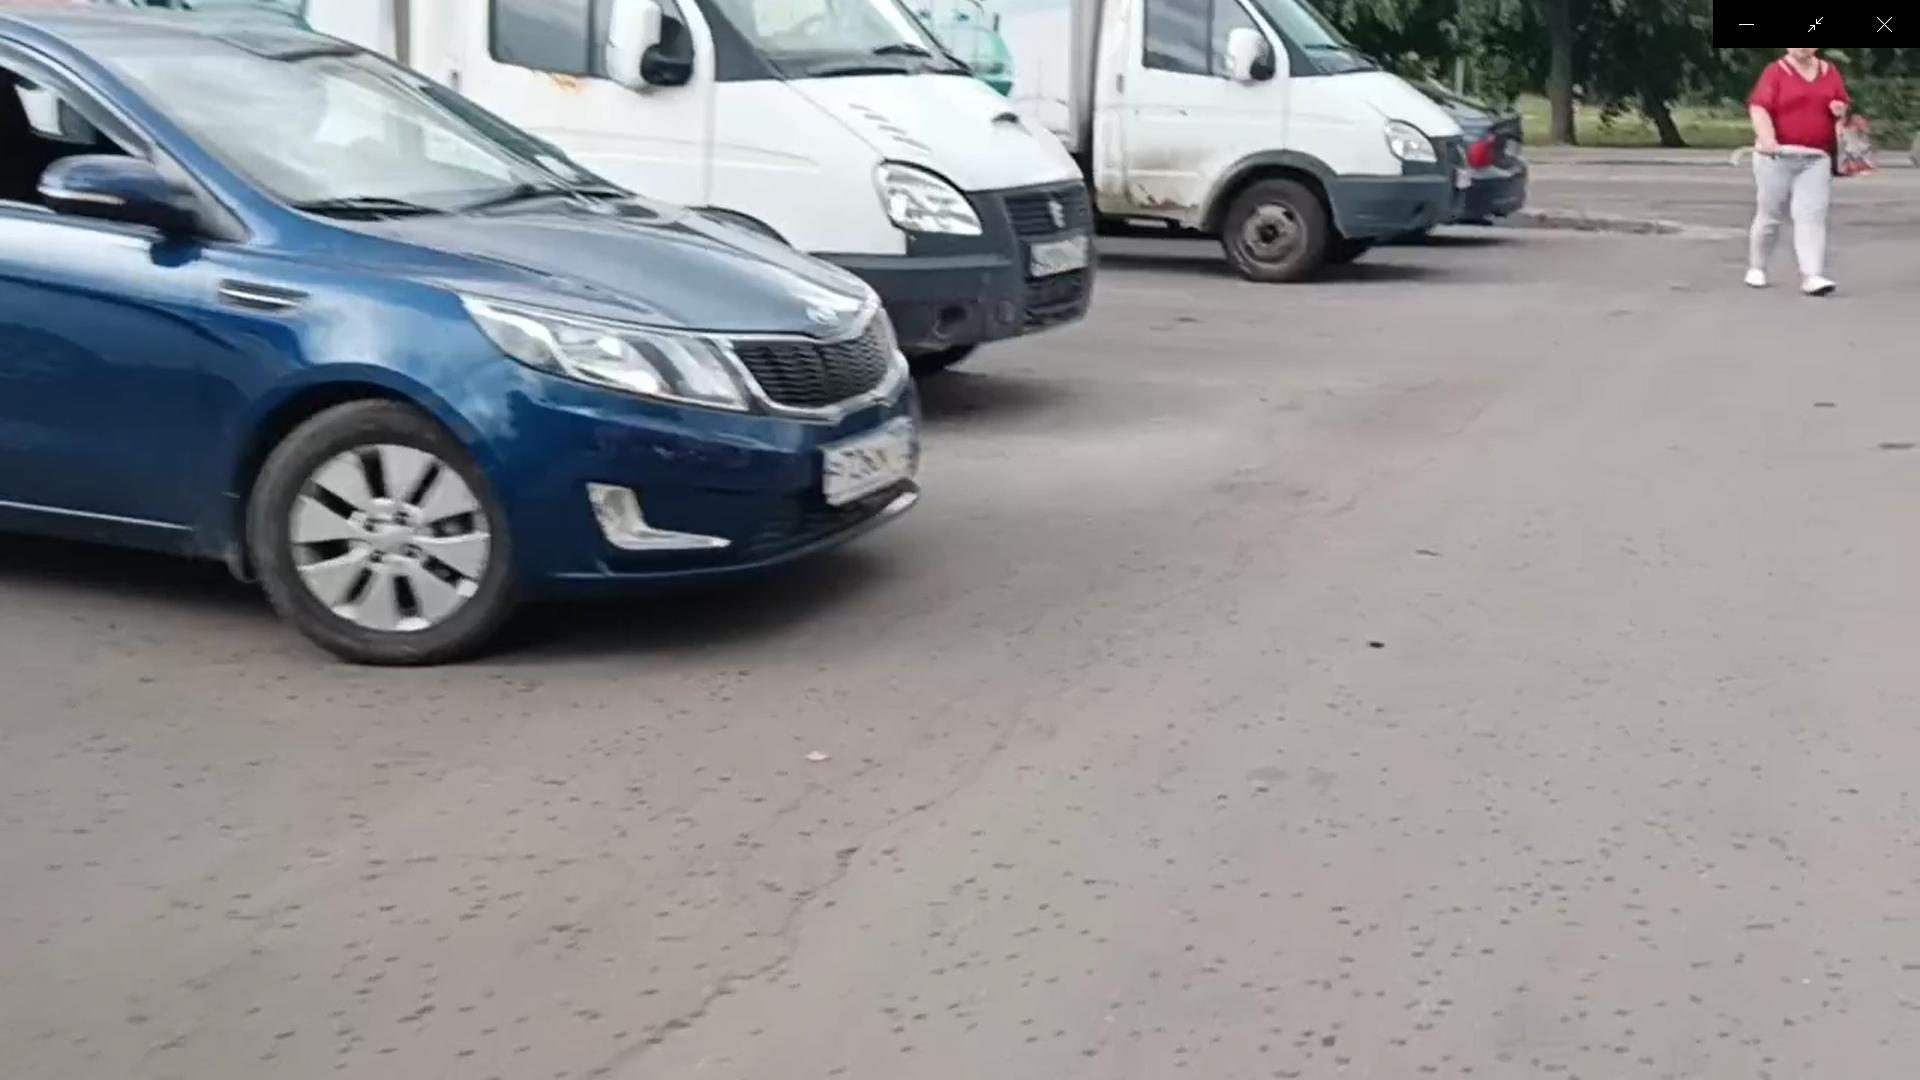plate: (811, 423, 919, 500), (1028, 240, 1089, 276)
